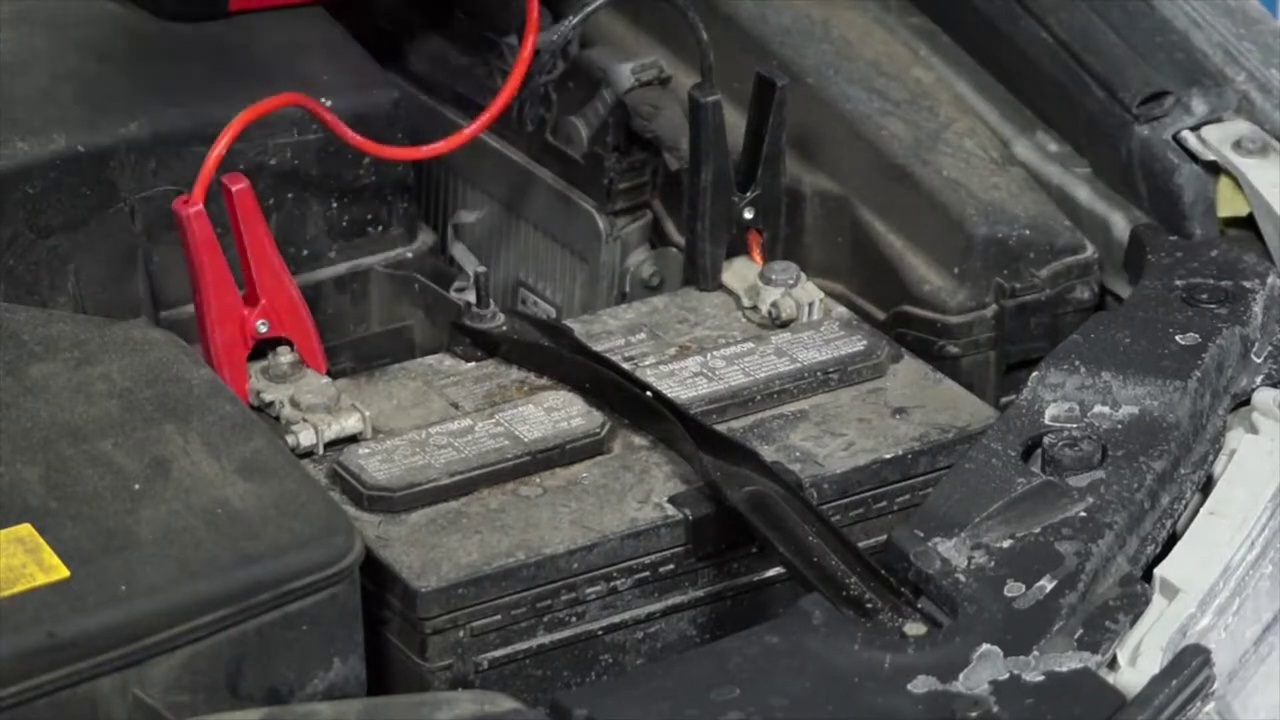battery: (232, 240, 975, 599)
neg_connected: (690, 228, 825, 335)
pos_connected: (186, 231, 363, 458)
